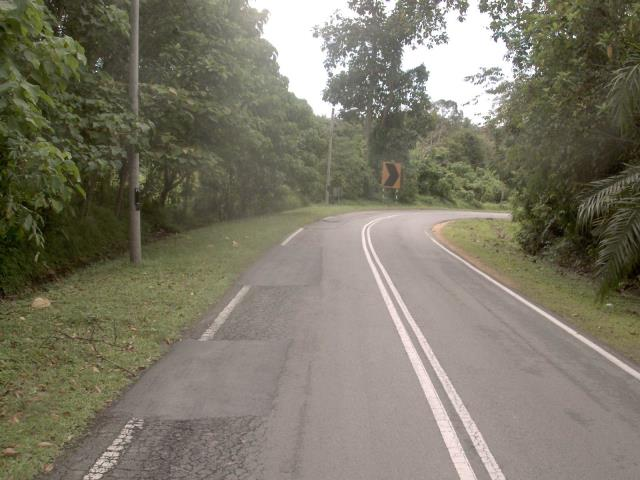traffic_sign: (376, 155, 407, 195)
